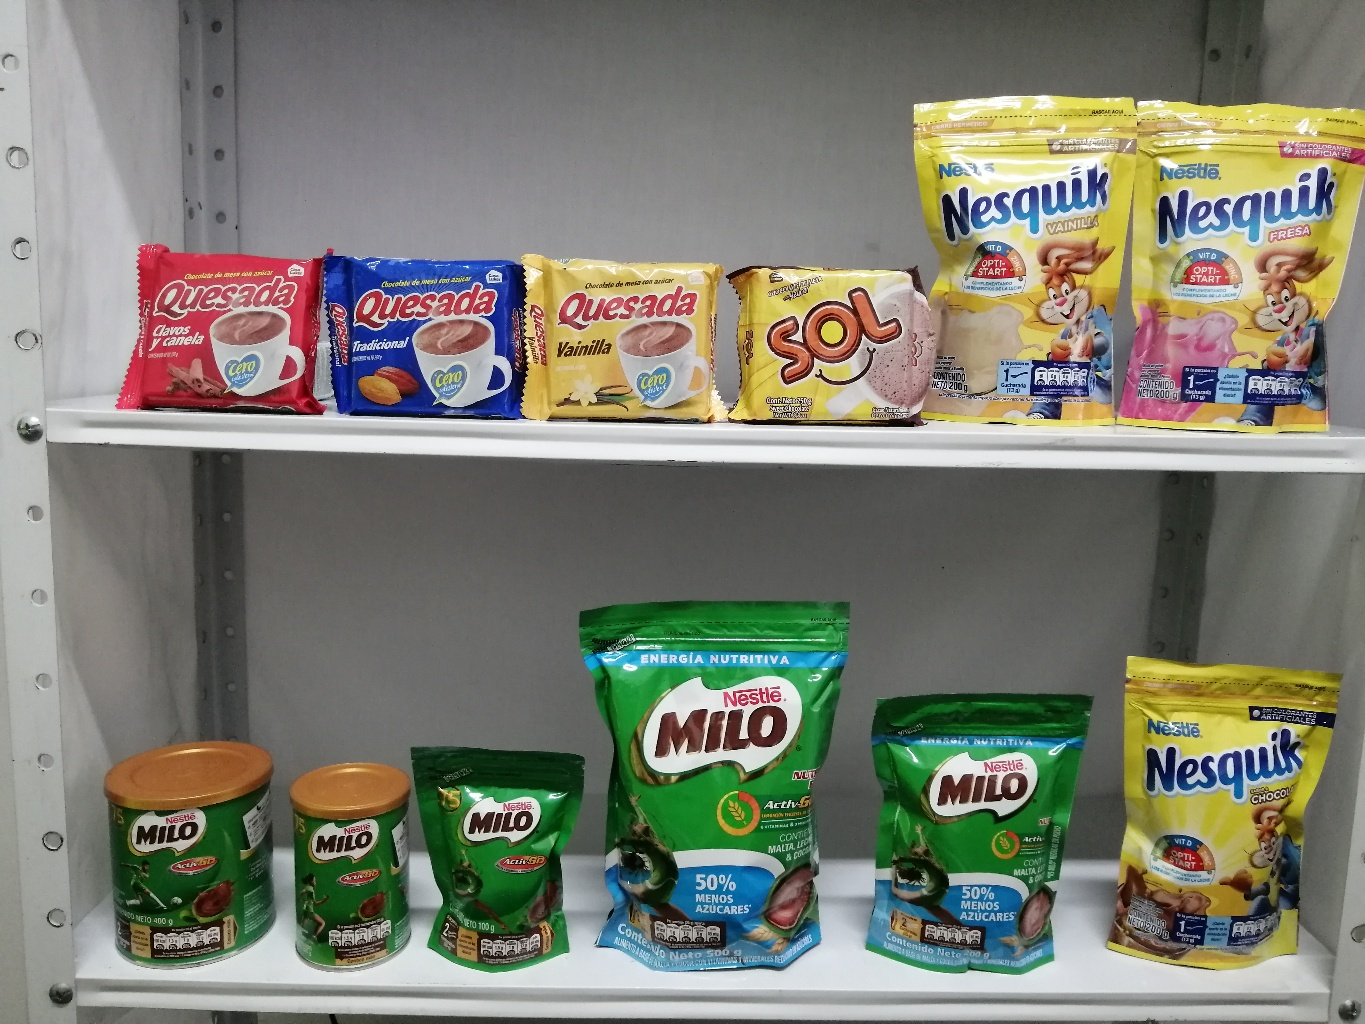COL0170203DYP10000: (401, 741, 583, 980)
COL0170203LAT20000: (289, 758, 426, 980)
COL0170203LAT40000: (90, 742, 289, 977)
COL0170205DYP20000: (861, 674, 1094, 981)
COL0170205DYP50000: (569, 591, 854, 989)
COL0170303DYP20000: (1109, 640, 1347, 975)
COL0170305DYP20000: (1121, 83, 1356, 438)
COL0170306DYP20000: (905, 88, 1132, 438)
